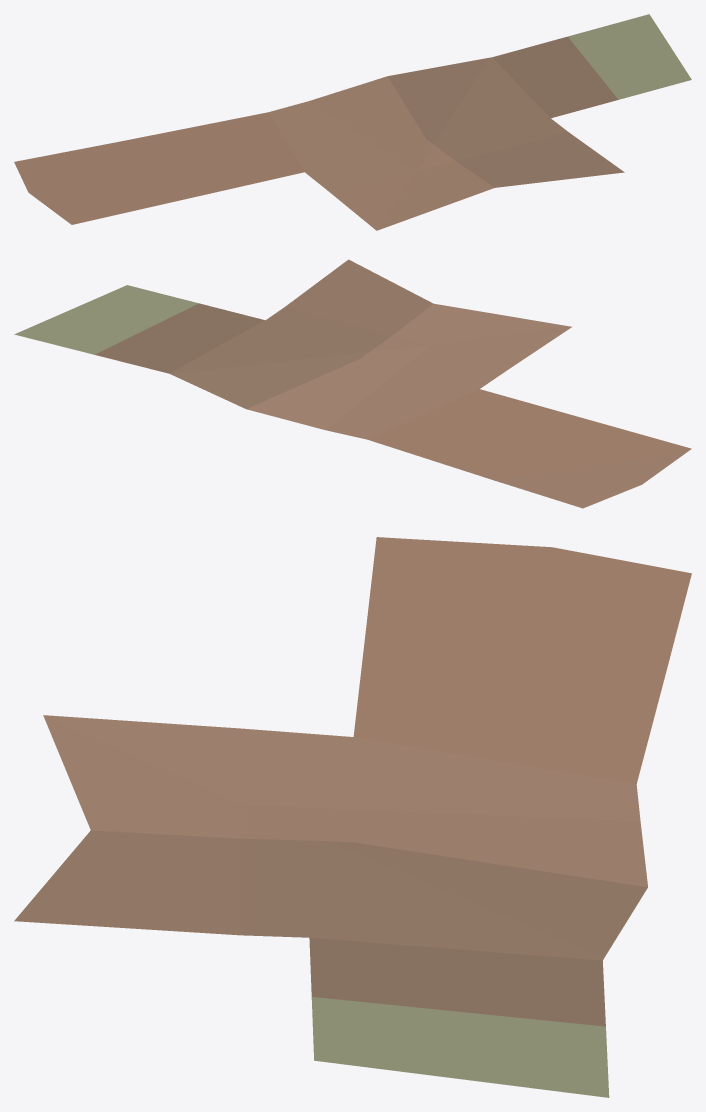
Rendered from farm_32_27_soil.glb.
The picture shows the model from 3 angles, top to bottom: view 1: azimuth 30°, elevation 25°; view 2: azimuth 150°, elevation 25°; view 3: azimuth 270°, elevation 25°; orthographic projection. The views are drawn at different scales.
Parts seen in each view (by area): view 1: geometry_0; view 2: geometry_0; view 3: geometry_0.
Boxes of the visible parts, bbox=[...] form: geometry_0: bbox=[14, 14, 691, 230]; geometry_0: bbox=[14, 259, 691, 508]; geometry_0: bbox=[14, 537, 691, 1097].
Size of the model in its own units: 135 by 3.97 by 66.88.
